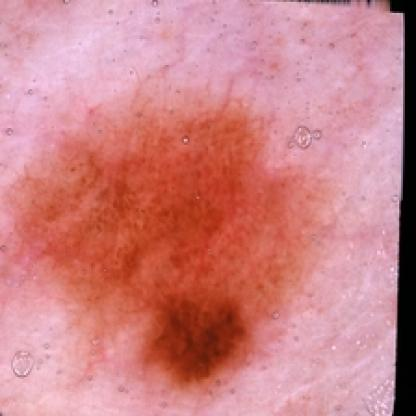Skin_Cancer-Malignant: (12, 91, 326, 392)
